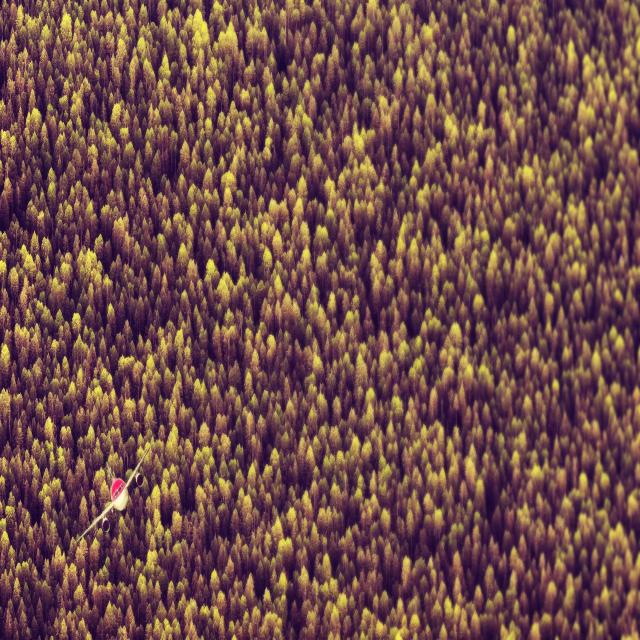airplane: (75, 440, 151, 547)
